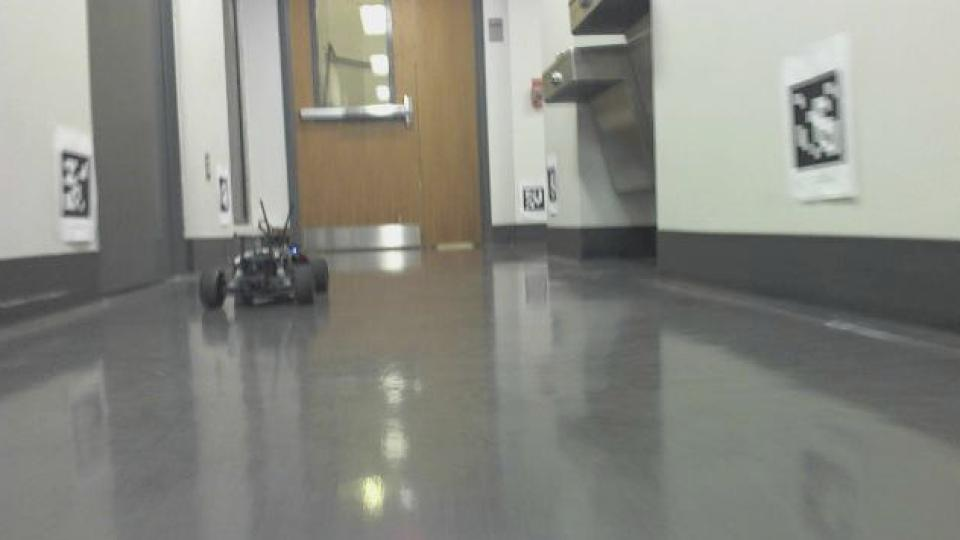car: (195, 196, 331, 314)
